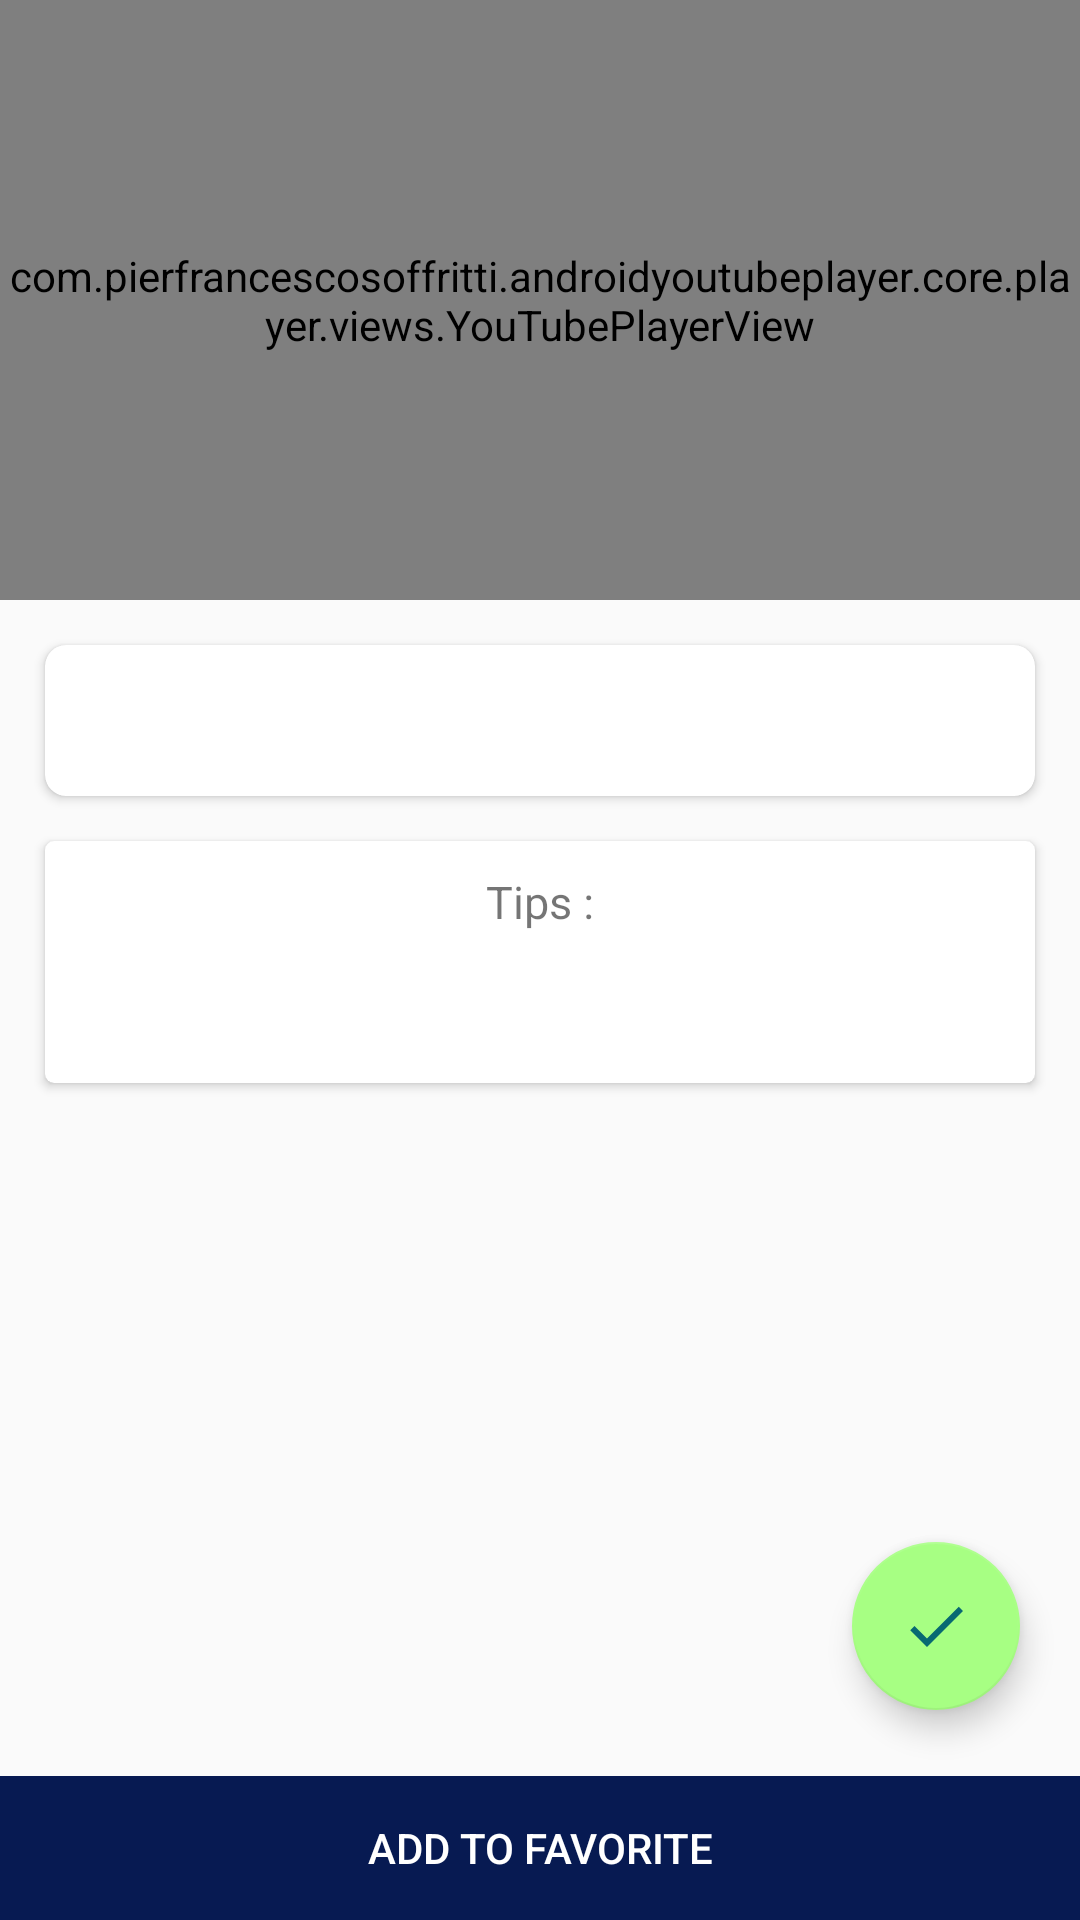

Named icons in this screenshot (1080x1920) and their bounding boxes, [x1=x1, y1=y1, x2=x2, y2=y2]:
check: [x1=852, y1=1542, x2=1020, y2=1710]
